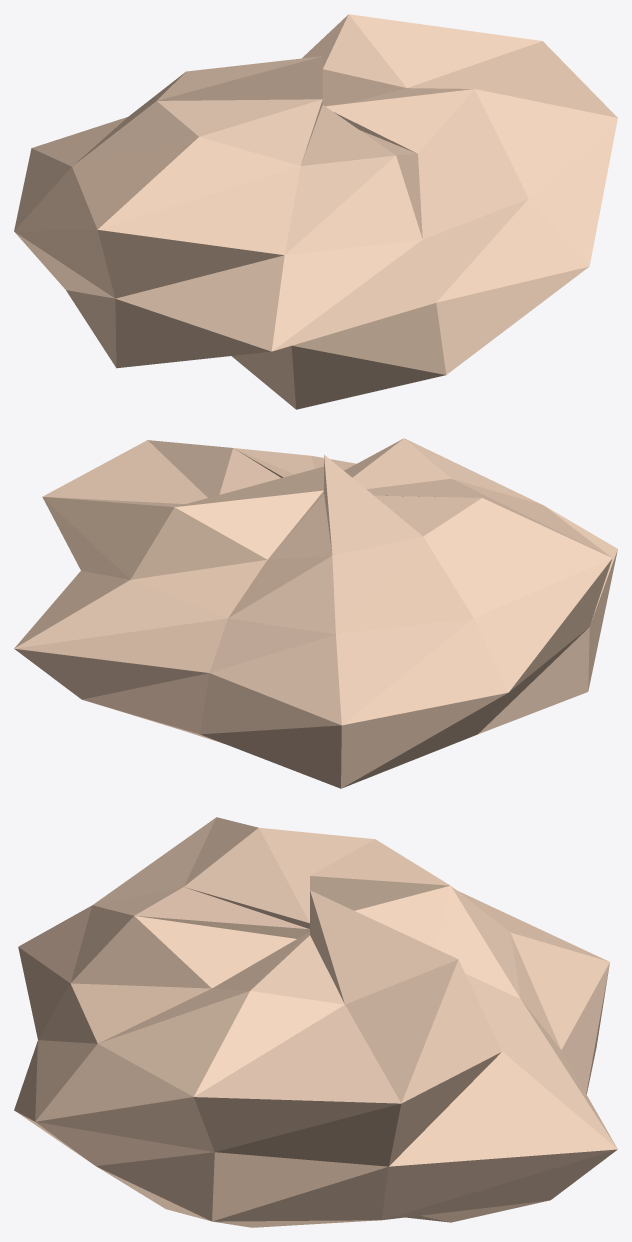
File: rock_054.obj
The picture shows the model from 3 angles, top to bottom: view 1: azimuth 30°, elevation 25°; view 2: azimuth 150°, elevation 25°; view 3: azimuth 270°, elevation 25°; orthographic projection. The views are drawn at different scales.
Size of the model in its own units: 1.3 by 0.7177 by 1.17.
